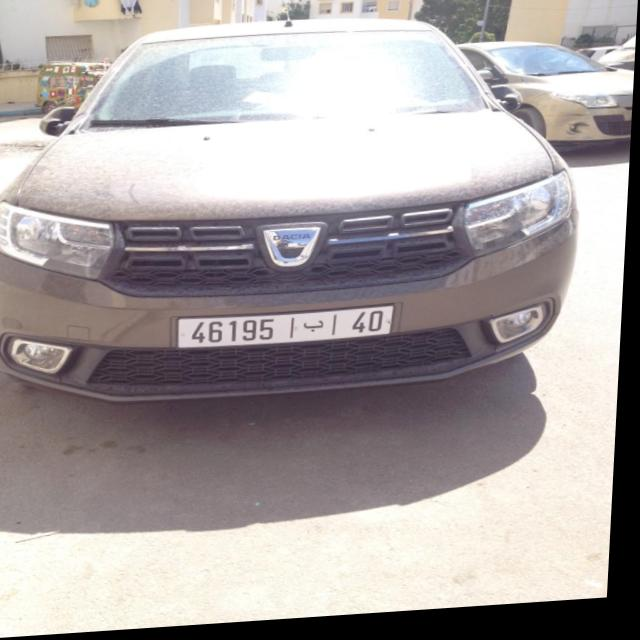License-Plate: (181, 311, 398, 351)
